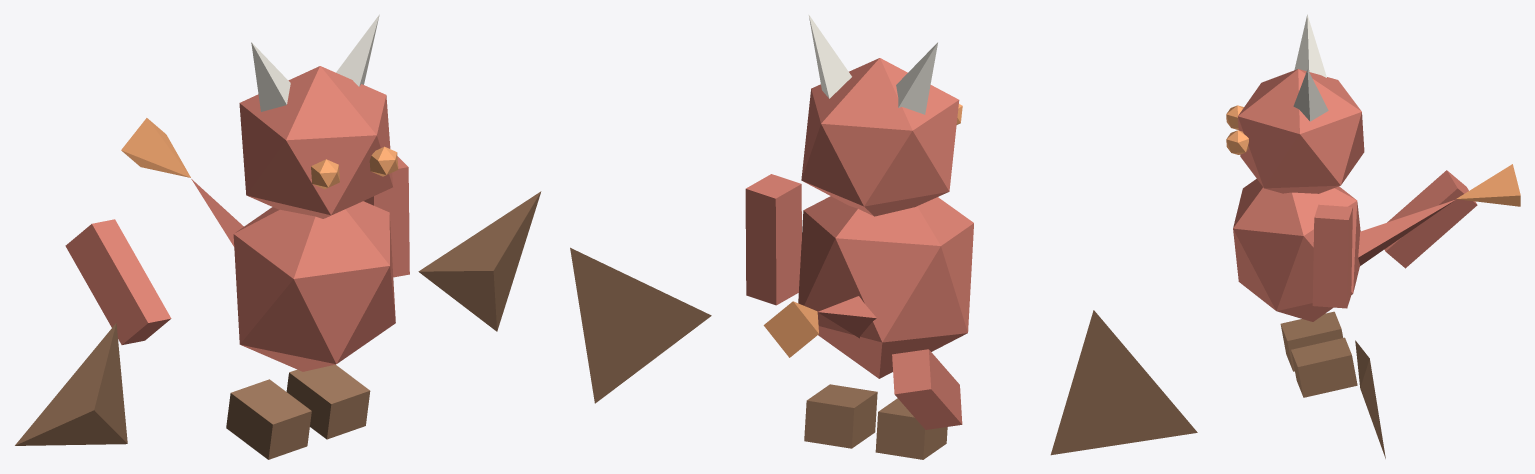
Rendered from npcpose_imp_walk_03.glb.
3 views of the same model, side by side, from view 1: azimuth 30°, elevation 25°; view 2: azimuth 150°, elevation 25°; view 3: azimuth 270°, elevation 25° (orthographic). The views are drawn at different scales.
Parts seen in each view (by area): view 1: npcpose; view 2: npcpose; view 3: npcpose.
Part boxes in pixels (left/top/right/bottom): npcpose: left=15, top=14, right=541, bottom=459; npcpose: left=570, top=14, right=1197, bottom=459; npcpose: left=1226, top=14, right=1520, bottom=458.
Bounding box in the file's own units: 1.58 × 1.07 × 0.8471.
